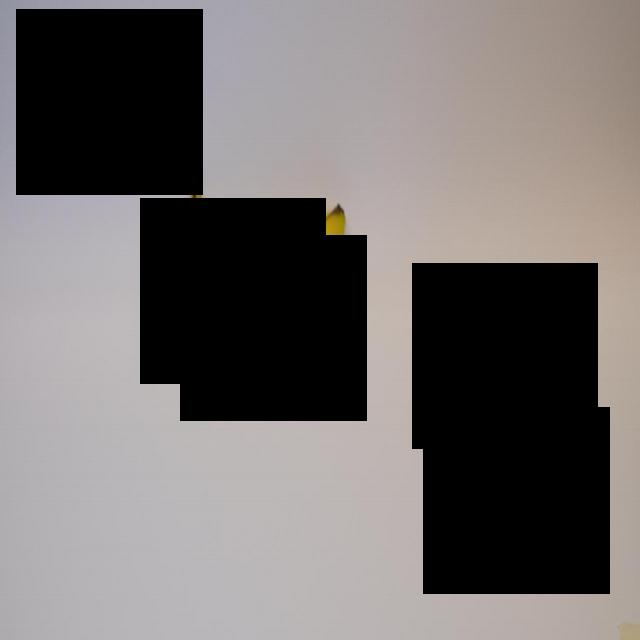banana: (177, 179, 346, 329)
